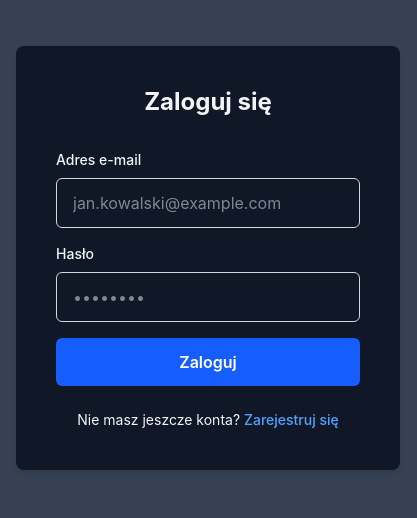
Test: LoginForm › handles login failure with error message
Type "wrong@example.com" into the field labelled "Adres e-mail" at (208, 203), box [56, 178, 360, 228]
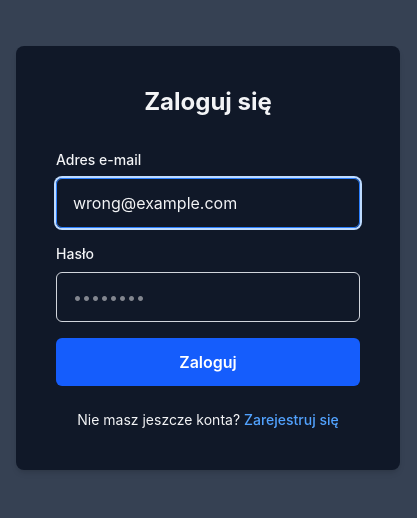
Type "wrongpass" into the password field labelled "Hasło" at (208, 297), box [56, 272, 360, 322]
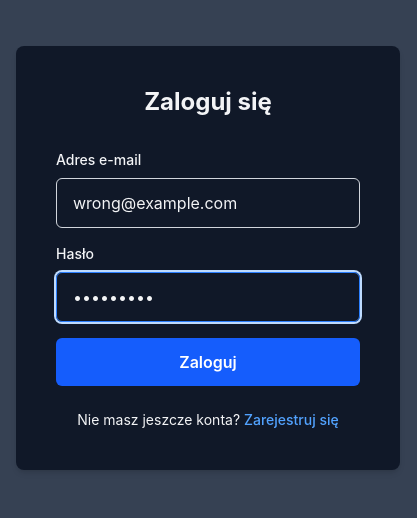
Click the button "Zaloguj" at (208, 362), box [56, 338, 360, 386]
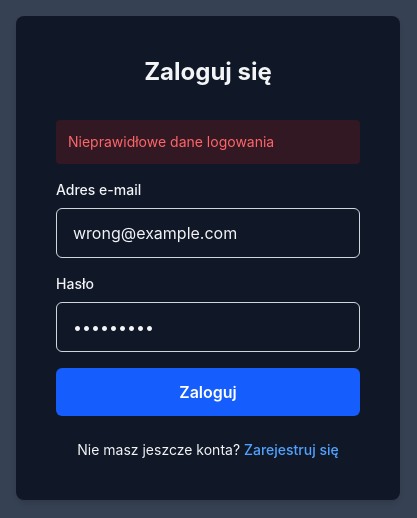
Expected: the text "Nieprawidłowe dane logowania" is shown, [56, 120, 360, 164]
